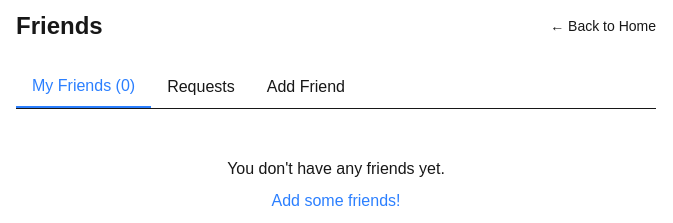
Test: FriendsPage › switches to add friend tab and shows search input
Click the button "Add Friend" at point(306, 87), box [251,66,361,108]
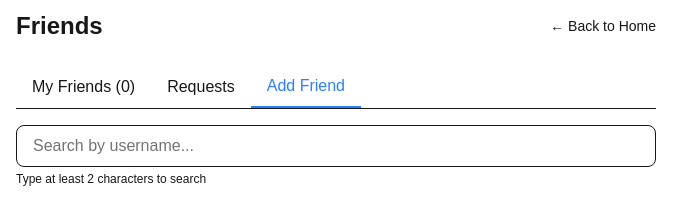
Expected: the field with placeholder "Search by username..." is shown, [16,125,656,167]
